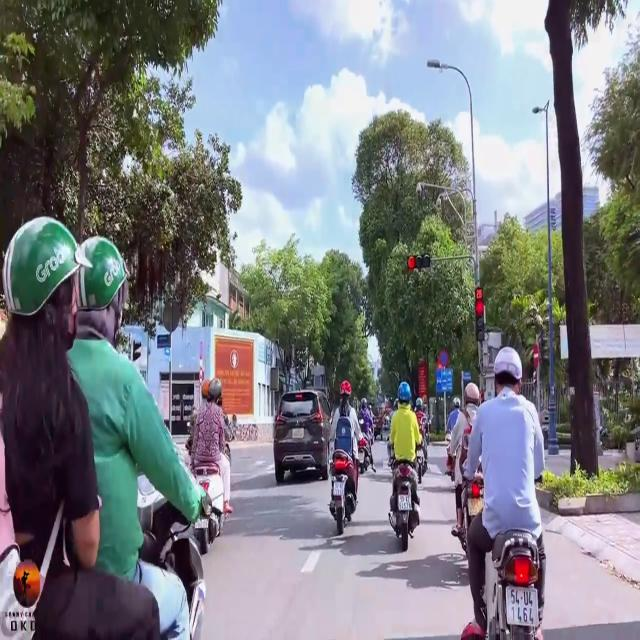bien_trang: (505, 584, 536, 626)
